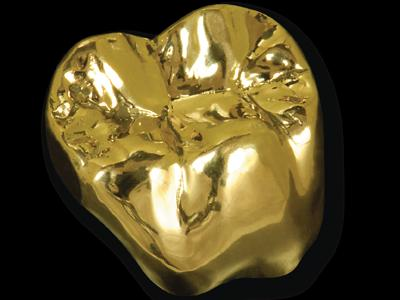crown: (26, 3, 355, 300)
